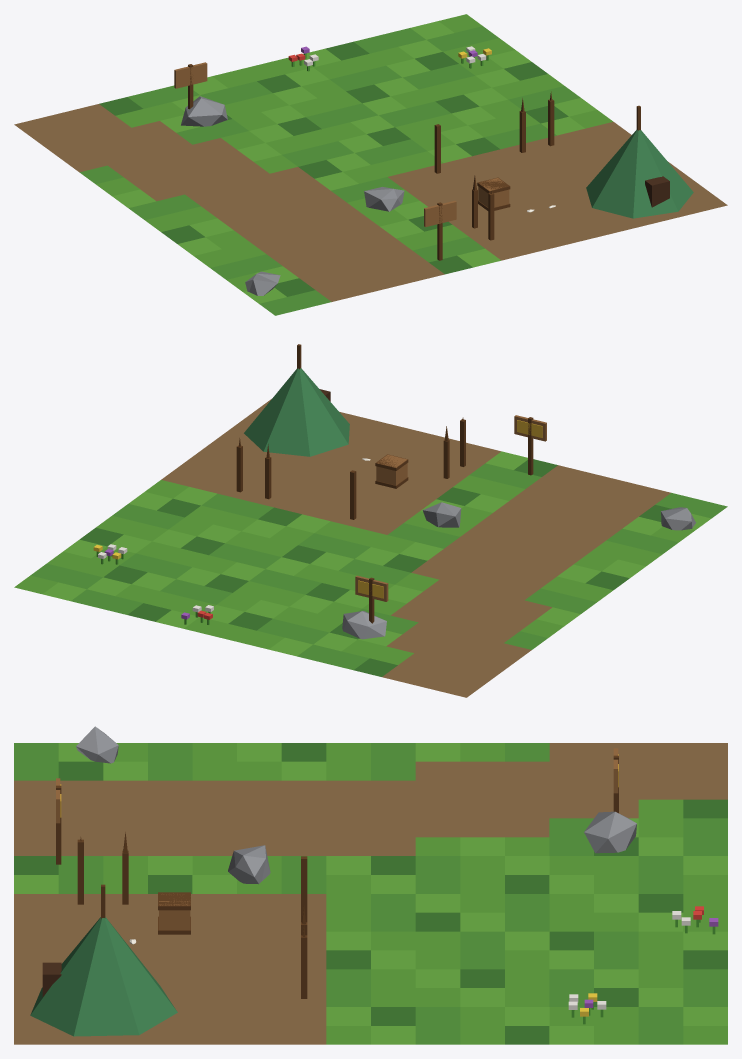
File: chunk_2_4.glb
3 renders of one model, top to bottom at view 1: azimuth 30°, elevation 25°; view 2: azimuth 150°, elevation 25°; view 3: azimuth 270°, elevation 25°, orthographic. The views are drawn at different scales.
Parts seen in each view (by area): view 1: chunk_2_4; view 2: chunk_2_4; view 3: chunk_2_4.
Part boxes in pixels (bbox=[...]): chunk_2_4: bbox=[14, 14, 727, 315]; chunk_2_4: bbox=[14, 344, 727, 697]; chunk_2_4: bbox=[14, 726, 727, 1044].
Size of the model in its own units: 16 by 3.4 by 16.
